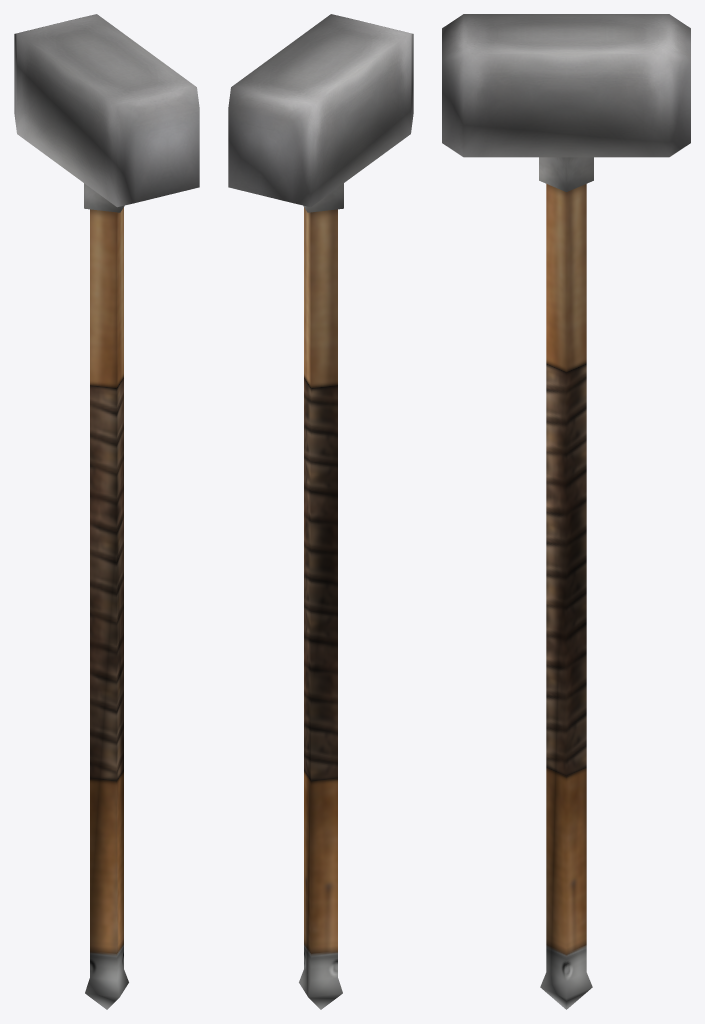
Rendered from MedievalTwoHandMace.fbx.
3 renders of one model, left to right at view 1: azimuth 30°, elevation 25°; view 2: azimuth 150°, elevation 25°; view 3: azimuth 270°, elevation 25°, orthographic. The views are drawn at different scales.
Parts seen in each view (by area): view 1: MedievalTwoHandMace; view 2: MedievalTwoHandMace; view 3: MedievalTwoHandMace.
Boxes of the visible parts, <box> form: MedievalTwoHandMace: <box>14,14,199,1009</box>; MedievalTwoHandMace: <box>228,14,413,1009</box>; MedievalTwoHandMace: <box>442,14,690,1009</box>.
Bounding box in the file's own units: 0.1122 × 1.27 × 0.2946.
